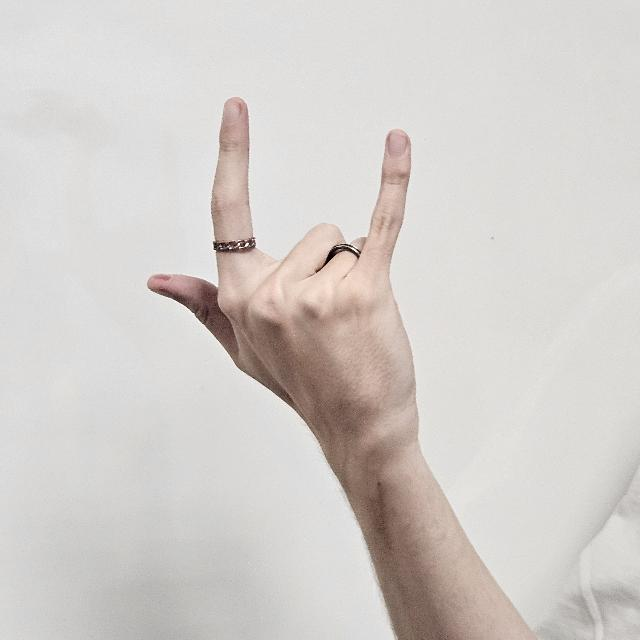Cima: (144, 98, 426, 454)
